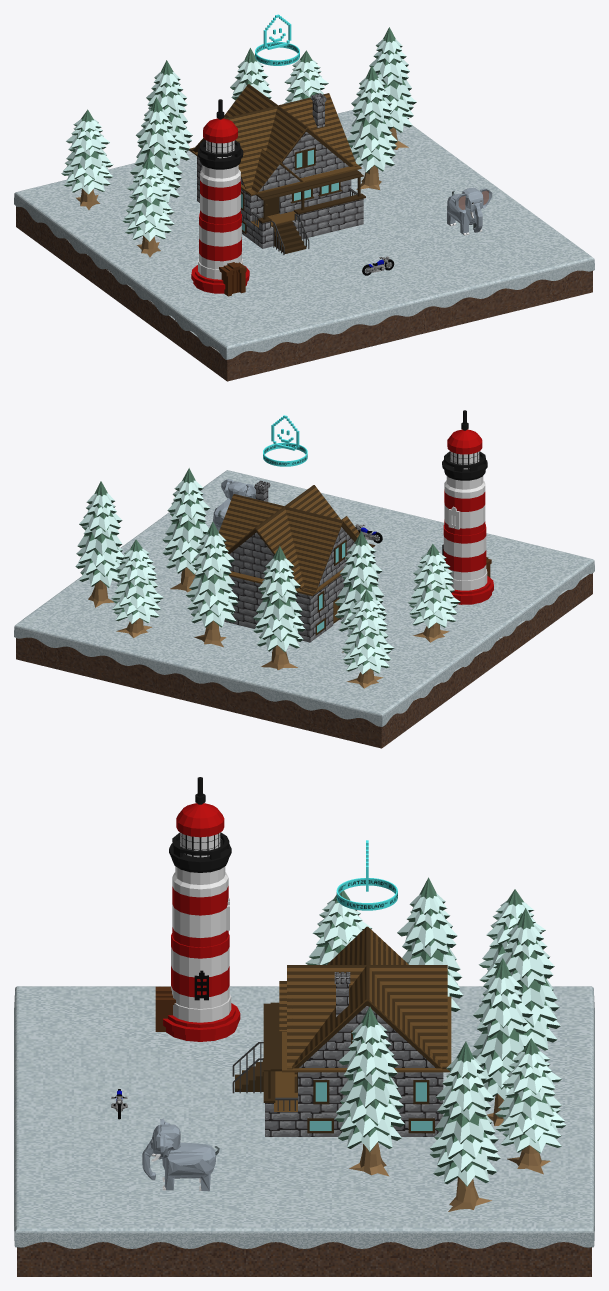
The picture shows the model from 3 angles, top to bottom: view 1: azimuth 30°, elevation 25°; view 2: azimuth 150°, elevation 25°; view 3: azimuth 270°, elevation 25°; orthographic projection. The views are drawn at different scales.
Visible parts, largest first — view 1: Cube.003, Cube.586, OBJRANDOM_LIGHTHOUSE, ANIMAL_ELEFANTE, TYPE_PREMIUM; view 2: Cube.003, Cube.586, OBJRANDOM_LIGHTHOUSE, TYPE_PREMIUM, ANIMAL_ELEFANTE; view 3: Cube.003, Cube.586, OBJRANDOM_LIGHTHOUSE, ANIMAL_ELEFANTE, TYPE_PREMIUM.
Part boxes in pixels (bbox=[...]): Cube.003: bbox=[14, 27, 594, 381]; Cube.586: bbox=[189, 84, 365, 254]; OBJRANDOM_LIGHTHOUSE: bbox=[191, 99, 249, 296]; ANIMAL_ELEFANTE: bbox=[447, 187, 492, 235]; TYPE_PREMIUM: bbox=[255, 14, 299, 65]; Cube.003: bbox=[14, 468, 594, 748]; Cube.586: bbox=[219, 480, 377, 642]; OBJRANDOM_LIGHTHOUSE: bbox=[442, 410, 493, 604]; TYPE_PREMIUM: bbox=[263, 415, 307, 466]; ANIMAL_ELEFANTE: bbox=[213, 479, 255, 531]; Cube.003: bbox=[14, 877, 594, 1276]; Cube.586: bbox=[232, 926, 451, 1136]; OBJRANDOM_LIGHTHOUSE: bbox=[155, 777, 240, 1041]; ANIMAL_ELEFANTE: bbox=[142, 1118, 219, 1191]; TYPE_PREMIUM: bbox=[336, 840, 397, 910].
Bounding box in the file's own units: 4040 × 2467 × 4040.
37 materials, 5 textured.
